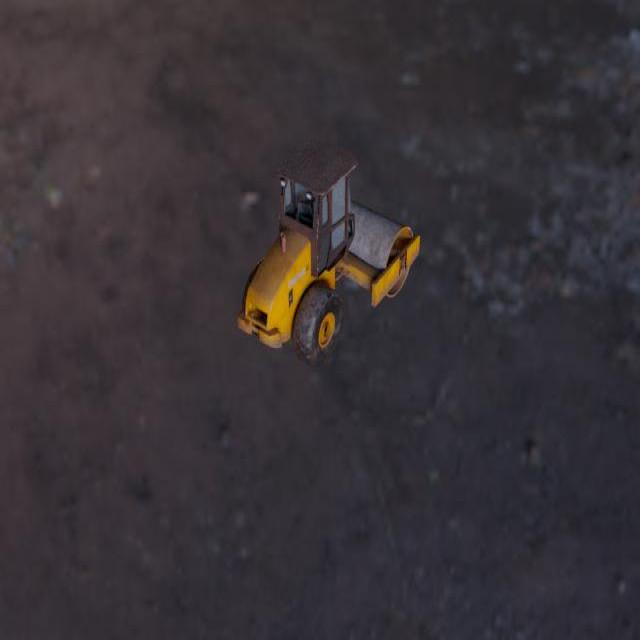Roller: (237, 139, 420, 368)
